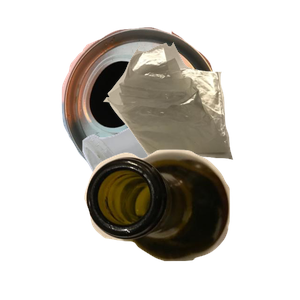glass: (82, 147, 300, 300)
metal: (59, 10, 273, 189)
plastic: (80, 120, 289, 300)
trash: (101, 40, 300, 192)
